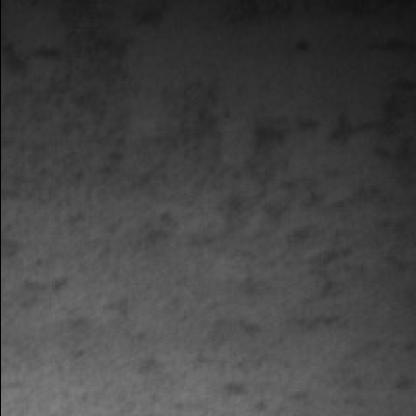pitted_surface: (81, 119, 366, 380)
